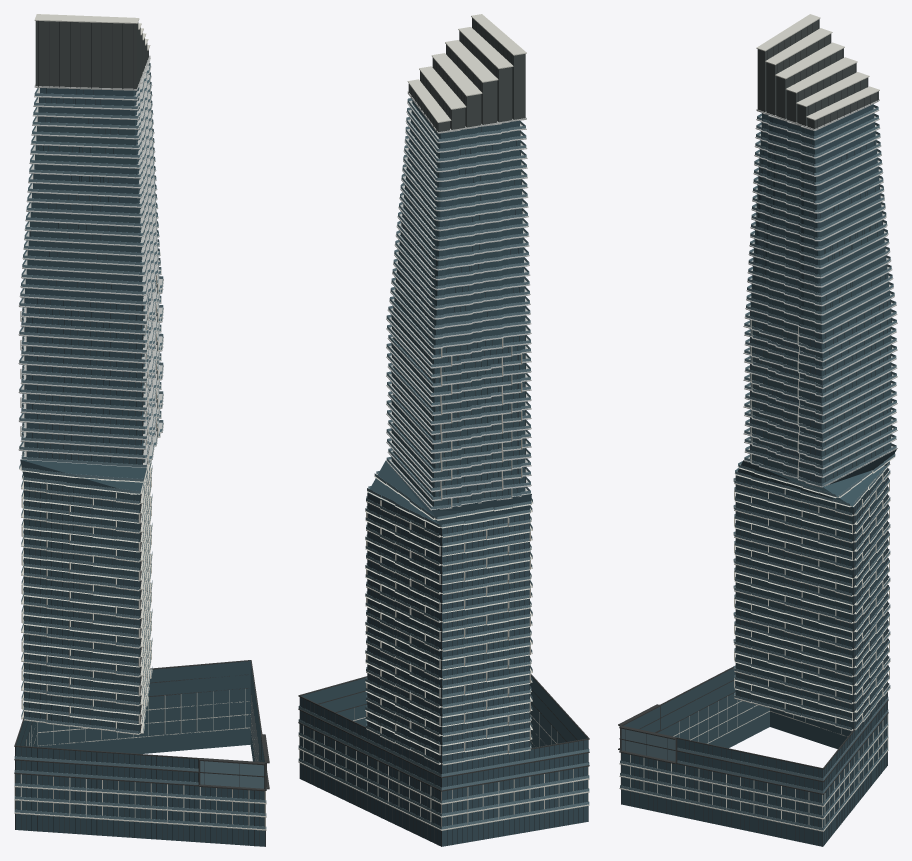
The model's file is mcity-m3-exterior-overlay-v2.glb.
3 renders of one model, left to right at view 1: azimuth 30°, elevation 25°; view 2: azimuth 150°, elevation 25°; view 3: azimuth 270°, elevation 25°, orthographic. The views are drawn at different scales.
Visible parts, largest first — view 1: Six-storey podium glazing skin over retained City capture, Recessed opaque glazing shell, no interior, Balcony guard bands, approximate height, Lower tower opaque glazing skin over retained City capture, Traced serrated slab and terrace edges, Lower balcony opaque guards, Lower projecting slab fascia, source-informed approximate ou, Inherited approximate crown strip shells, Podium opaque glass guard bands, Lower tower glazing mullions, schematic bays, Podium curtain wall mullions, schematic bays, Inherited join glass cover, not a measured floor (+10 smaller); view 2: Recessed opaque glazing shell, no interior, Lower tower opaque glazing skin over retained City capture, Six-storey podium glazing skin over retained City capture, Balcony guard bands, approximate height, Traced serrated slab and terrace edges, Lower balcony opaque guards, Lower projecting slab fascia, source-informed approximate ou, Inherited approximate crown strip shells, Podium opaque glass guard bands, Lower tower glazing mullions, schematic bays, Crown terrace edge fascia, Podium curtain wall mullions, schematic bays (+8 smaller); view 3: Recessed opaque glazing shell, no interior, Six-storey podium glazing skin over retained City capture, Lower tower opaque glazing skin over retained City capture, Balcony guard bands, approximate height, Lower balcony opaque guards, Traced serrated slab and terrace edges, Lower projecting slab fascia, source-informed approximate ou, Inherited approximate crown strip shells, Lower tower glazing mullions, schematic bays, Podium opaque glass guard bands, Crown terrace edge fascia, Podium curtain wall mullions, schematic bays (+9 smaller).
Part boxes in pixels (x1,y1,x2,y2): Six-storey podium glazing skin over retained City capture: (15,660,265,846); Recessed opaque glazing shell, no interior: (24,88,158,464); Balcony guard bands, approximate height: (19,63,163,467); Lower tower opaque glazing skin over retained City capture: (24,481,140,732); Traced serrated slab and terrace edges: (18,56,163,468); Lower balcony opaque guards: (19,460,152,733); Lower projecting slab fascia, source-informed approximate ou: (19,460,152,734); Inherited approximate crown strip shells: (35,21,148,88); Podium opaque glass guard bands: (14,756,266,829); Lower tower glazing mullions, schematic bays: (24,481,141,732); Podium curtain wall mullions, schematic bays: (15,747,265,846); Inherited join glass cover, not a measured floor: (20,459,146,494); Recessed opaque glazing shell, no interior: (392,100,525,506); Lower tower opaque glazing skin over retained City capture: (367,493,529,763); Six-storey podium glazing skin over retained City capture: (300,675,588,846); Balcony guard bands, approximate height: (386,98,530,509); Traced serrated slab and terrace edges: (386,92,531,510); Lower balcony opaque guards: (365,471,532,764); Lower projecting slab fascia, source-informed approximate ou: (365,474,532,765); Inherited approximate crown strip shells: (409,18,525,131); Podium opaque glass guard bands: (298,705,589,829); Lower tower glazing mullions, schematic bays: (367,493,529,763); Crown terrace edge fascia: (407,14,526,122); Podium curtain wall mullions, schematic bays: (299,697,588,846); Recessed opaque glazing shell, no interior: (750,104,891,483); Six-storey podium glazing skin over retained City capture: (621,667,887,846); Lower tower opaque glazing skin over retained City capture: (736,468,887,729); Balcony guard bands, approximate height: (744,105,896,486); Lower balcony opaque guards: (733,453,895,729); Traced serrated slab and terrace edges: (743,101,897,487); Lower projecting slab fascia, source-informed approximate ou: (733,456,895,731); Inherited approximate crown strip shells: (757,19,878,128); Lower tower glazing mullions, schematic bays: (735,468,887,729); Podium opaque glass guard bands: (620,697,888,830); Crown terrace edge fascia: (756,14,879,120); Podium curtain wall mullions, schematic bays: (621,692,887,846).
Bounding box in the file's own units: 92.48 × 260 × 90.28.
